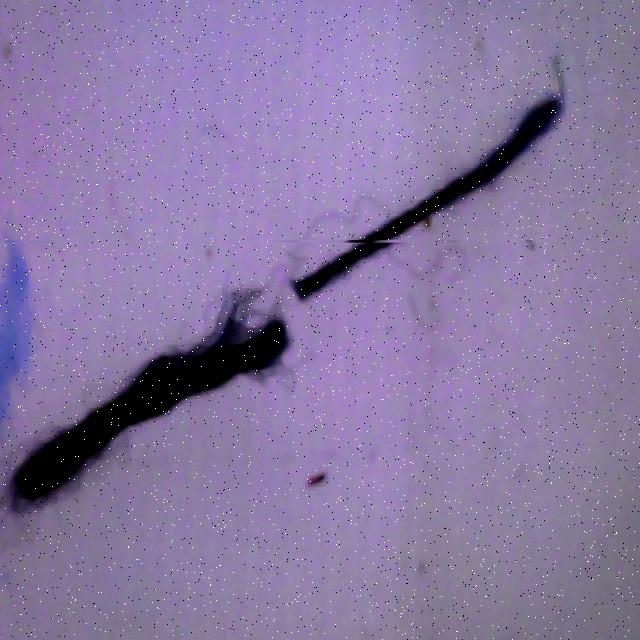fibers: (0, 290, 299, 514), (280, 91, 581, 301)
